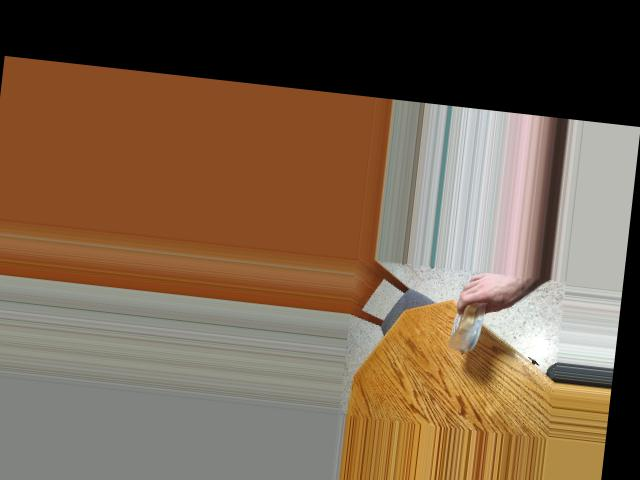cheese: (436, 283, 512, 356)
